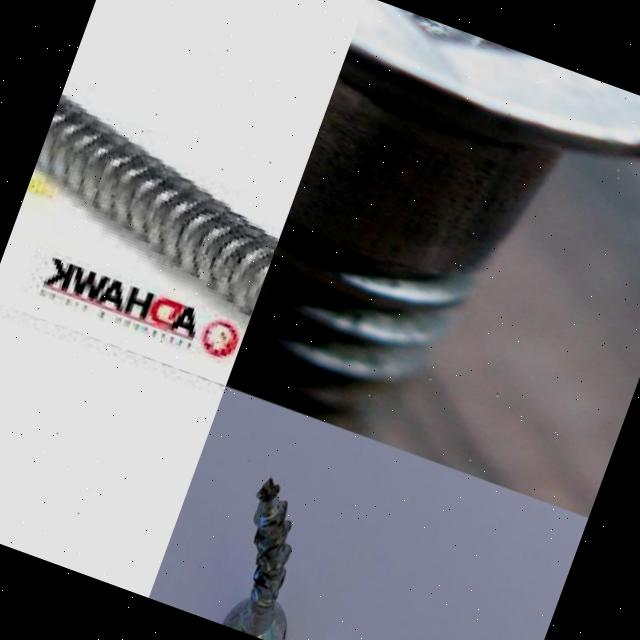Screw: (226, 0, 640, 439), (34, 94, 278, 321), (222, 477, 292, 640)
